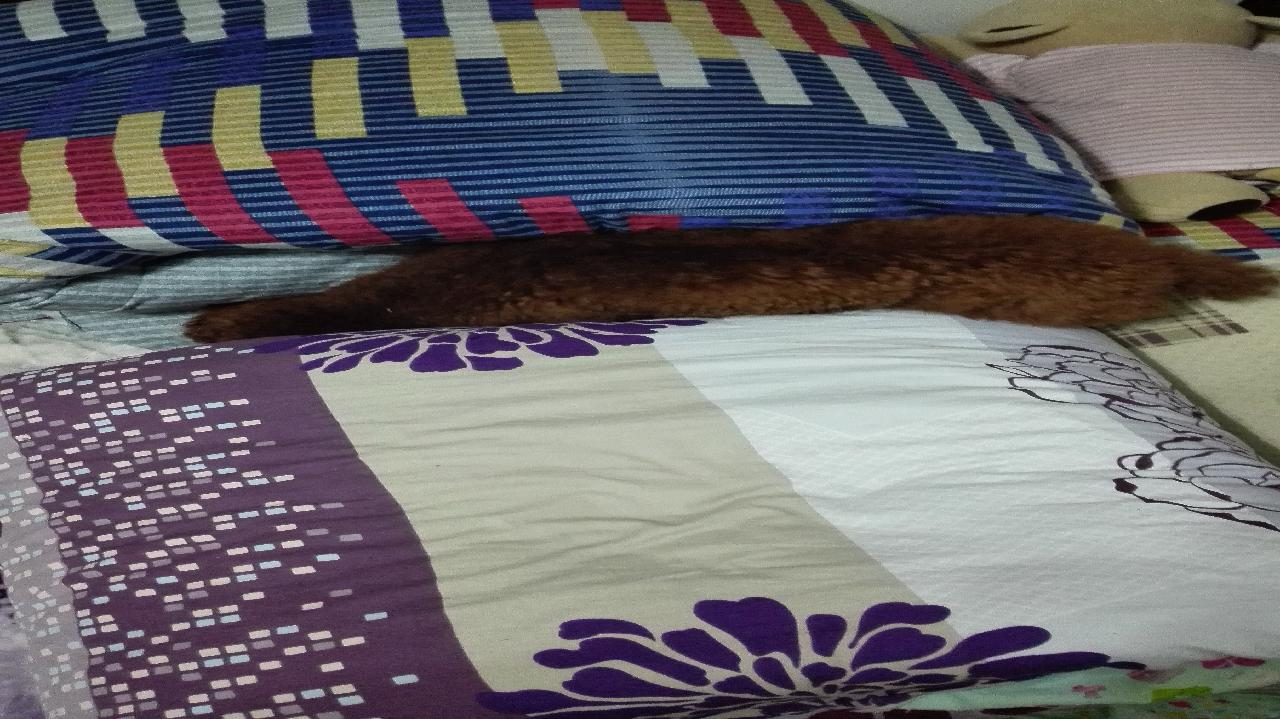zhuangzhuang: (207, 227, 1236, 350)
